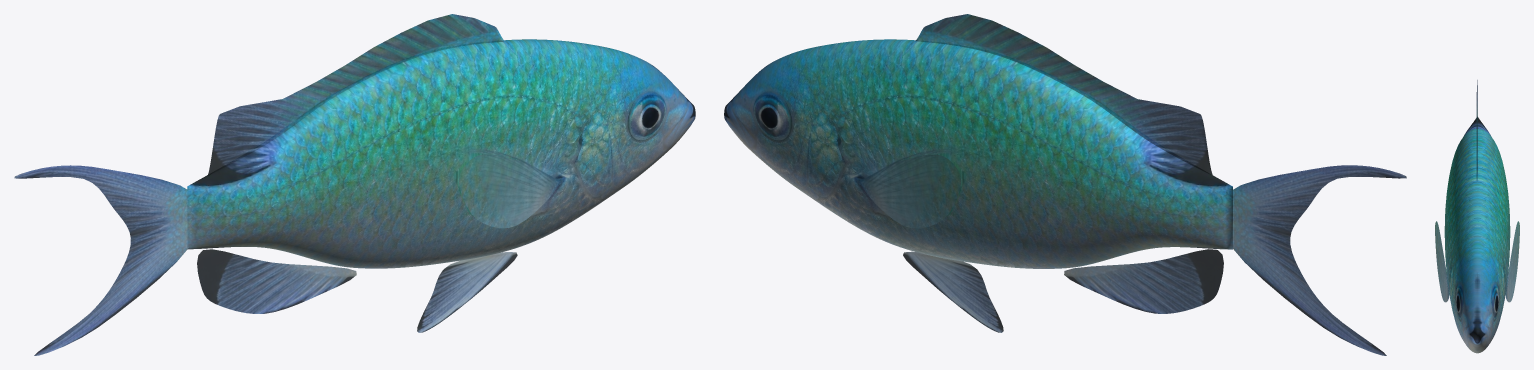
File: chromis-BeZMqwQ5.glb
3 renders of one model, left to right at view 1: azimuth 30°, elevation 25°; view 2: azimuth 150°, elevation 25°; view 3: azimuth 270°, elevation 25°, orthographic. The views are drawn at different scales.
Parts seen in each view (by area): view 1: chromis__body, chromis__fin_0, chromis__fin_1, chromis__fin_2, chromis__pectoral_1, chromis__fin_3, chromis__gill_1, chromis__eye_1; view 2: chromis__body, chromis__fin_0, chromis__fin_1, chromis__fin_2, chromis__pectoral_-1, chromis__fin_3, chromis__gill_-1, chromis__eye_-1; view 3: chromis__body, chromis__pectoral_1, chromis__pectoral_-1, chromis__gill_1, chromis__gill_-1, chromis__fin_1, chromis__eye_1, chromis__eye_-1.
Part boxes in pixels (<box>): chromis__body: <box>187,39,695,268</box>; chromis__fin_0: <box>14,165,188,355</box>; chromis__fin_1: <box>207,14,505,176</box>; chromis__fin_2: <box>197,249,356,313</box>; chromis__pectoral_1: <box>458,154,559,228</box>; chromis__fin_3: <box>417,252,517,332</box>; chromis__gill_1: <box>568,108,619,213</box>; chromis__eye_1: <box>633,98,663,136</box>; chromis__body: <box>724,39,1233,268</box>; chromis__fin_0: <box>1233,165,1406,355</box>; chromis__fin_1: <box>915,14,1212,175</box>; chromis__fin_2: <box>1064,249,1223,313</box>; chromis__pectoral_-1: <box>860,154,961,228</box>; chromis__fin_3: <box>903,251,1003,332</box>; chromis__gill_-1: <box>800,108,851,214</box>; chromis__eye_-1: <box>756,98,786,136</box>; chromis__body: <box>1444,117,1510,353</box>; chromis__pectoral_1: <box>1435,221,1449,302</box>; chromis__pectoral_-1: <box>1505,221,1519,302</box>; chromis__gill_1: <box>1450,257,1461,336</box>; chromis__gill_-1: <box>1493,257,1504,336</box>; chromis__fin_1: <box>1476,80,1477,181</box>; chromis__eye_1: <box>1456,288,1461,317</box>; chromis__eye_-1: <box>1493,288,1498,317</box>.
Bounding box in the file's own units: 1.34 × 0.5872 × 0.1947.
Materials: 4 (4 with a texture image).
